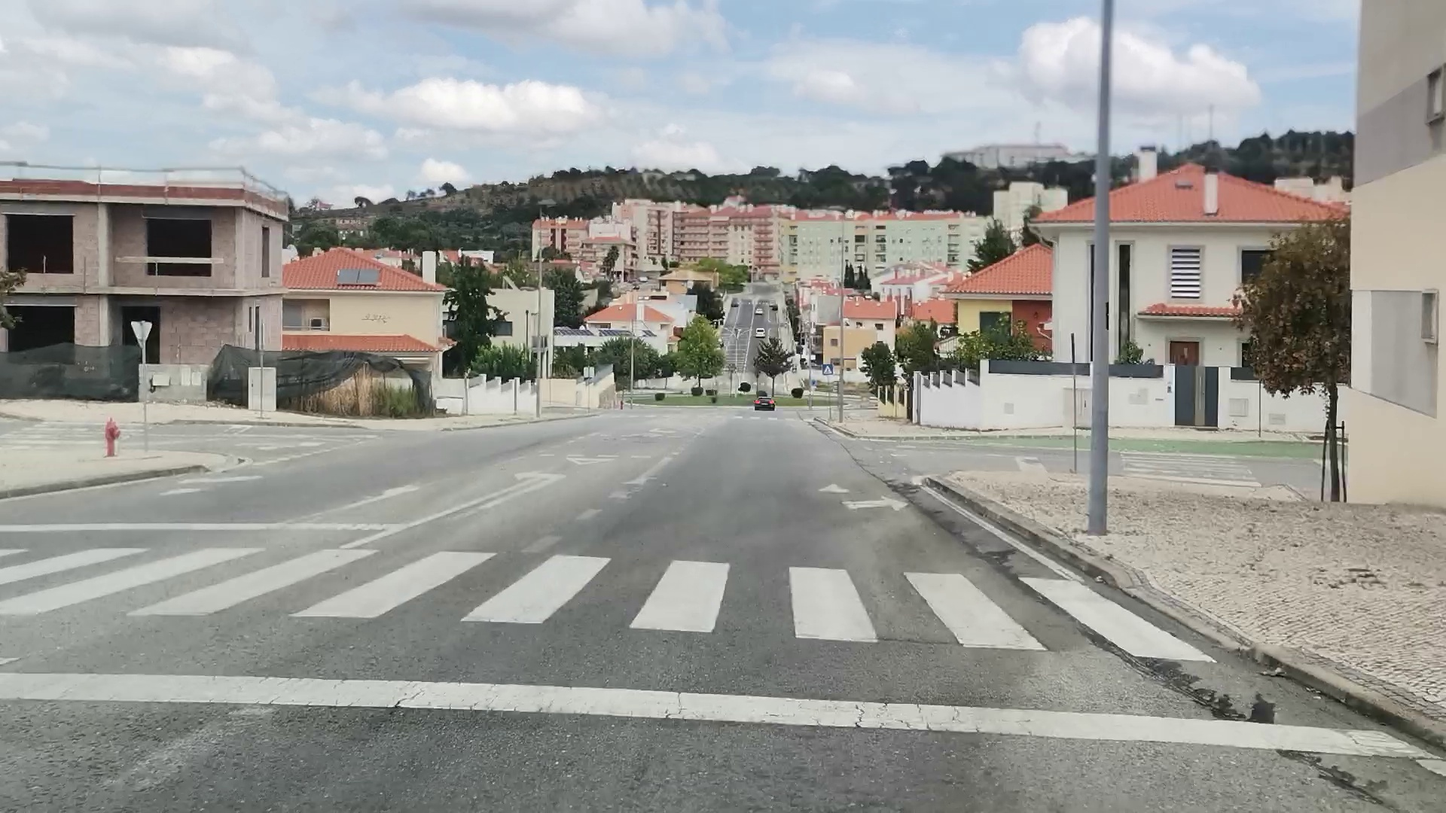Stairs: (0, 541, 1224, 665)
